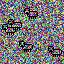sheep: (8, 19, 23, 31), (24, 7, 38, 19), (19, 40, 33, 52), (48, 46, 62, 57), (2, 24, 15, 34)
